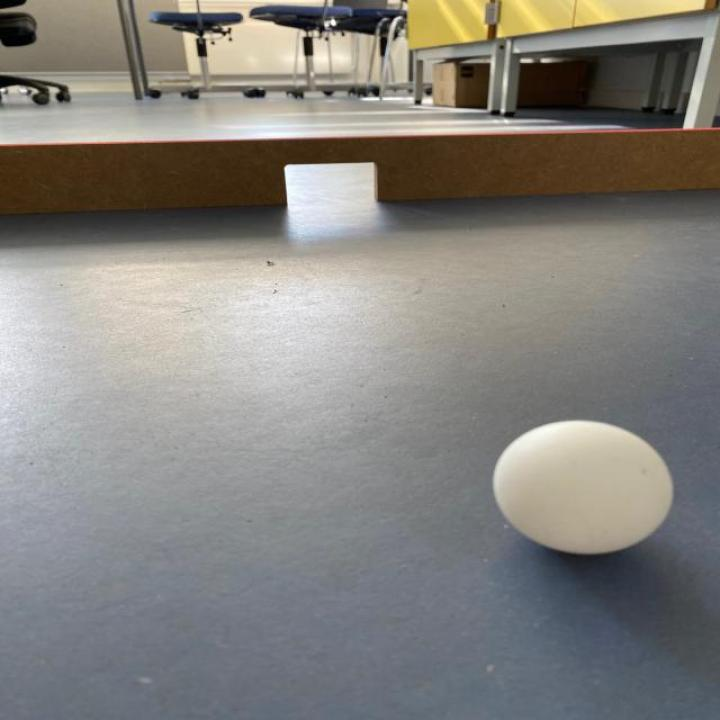white: (493, 418, 674, 555)
